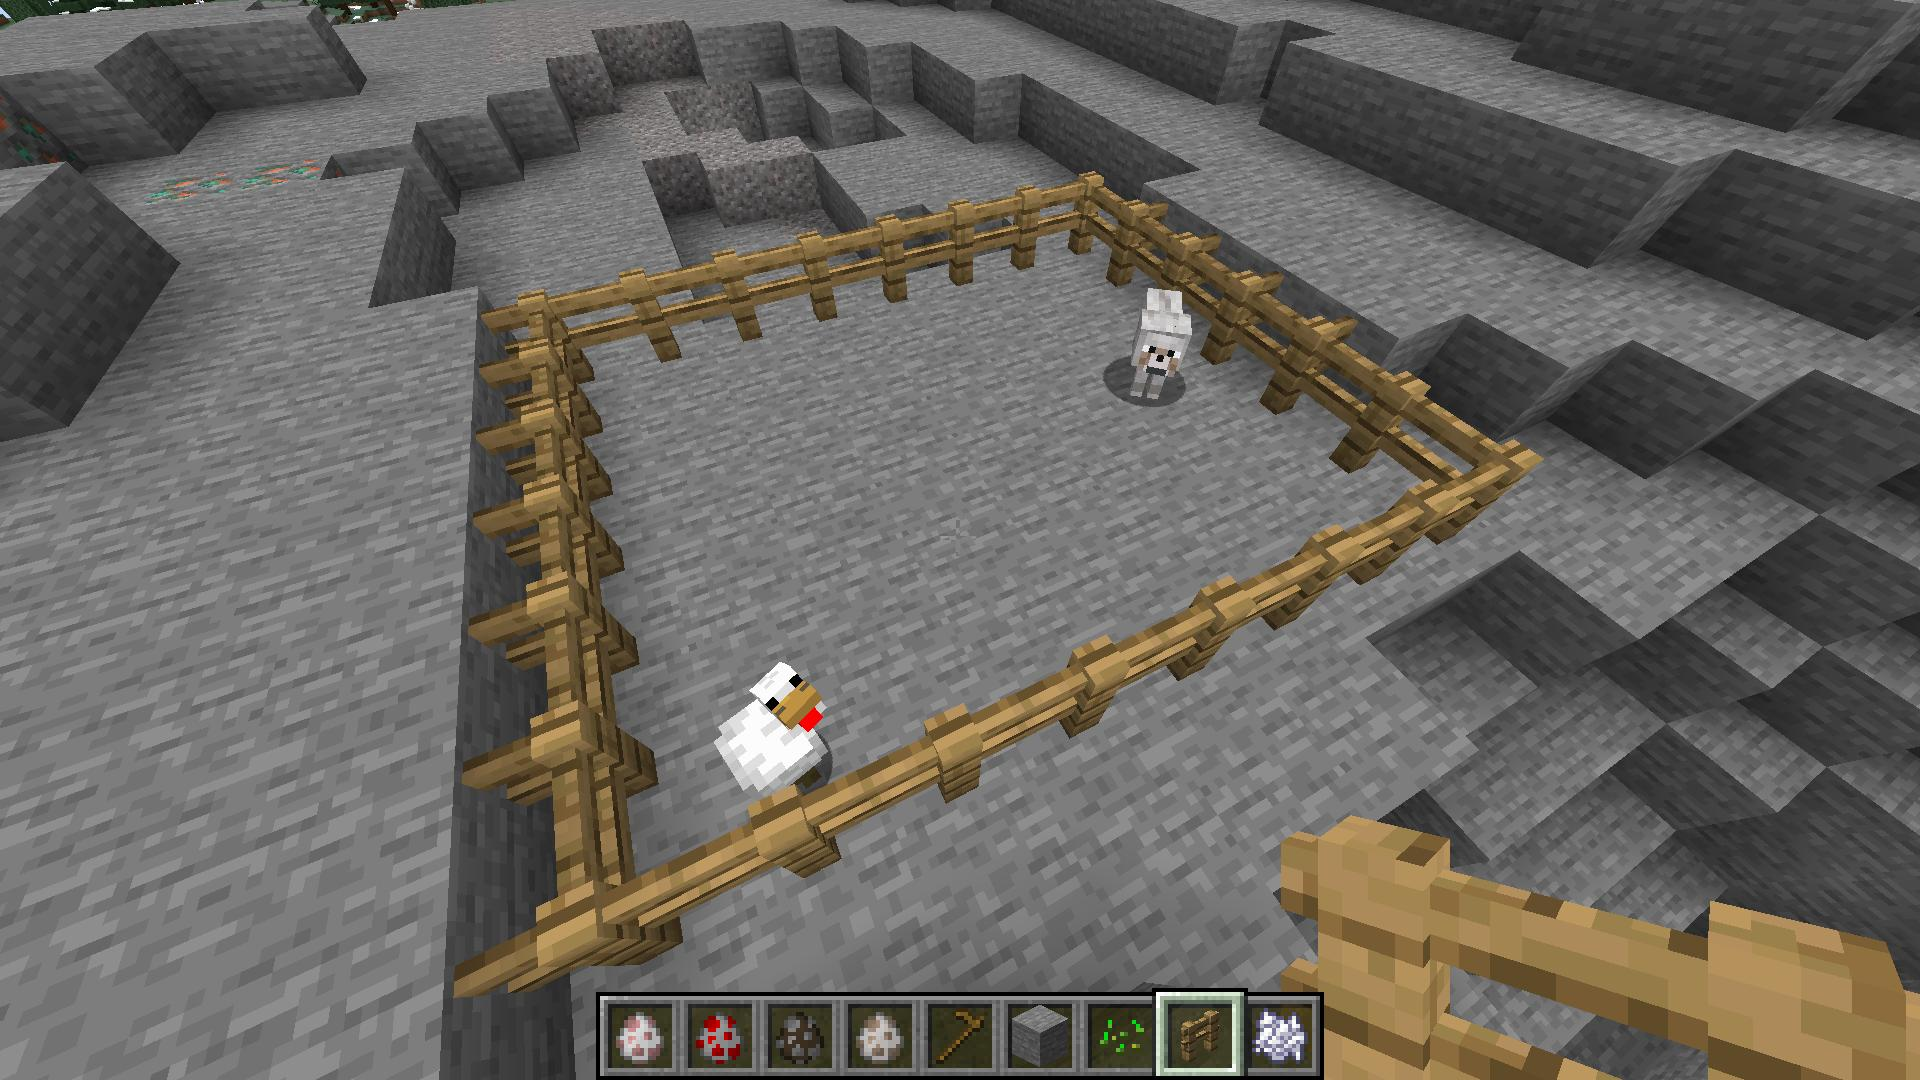chicken: (704, 659, 833, 804)
wolf: (1127, 282, 1195, 407)
